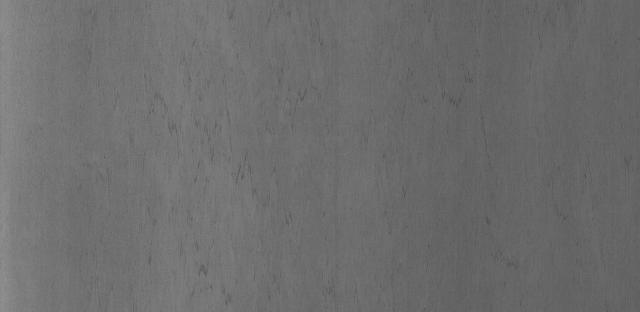silk_spot: (176, 68, 315, 228)
